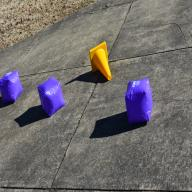cone: (89, 41, 112, 81)
cube: (124, 78, 154, 124), (37, 76, 66, 118), (0, 70, 24, 104)
